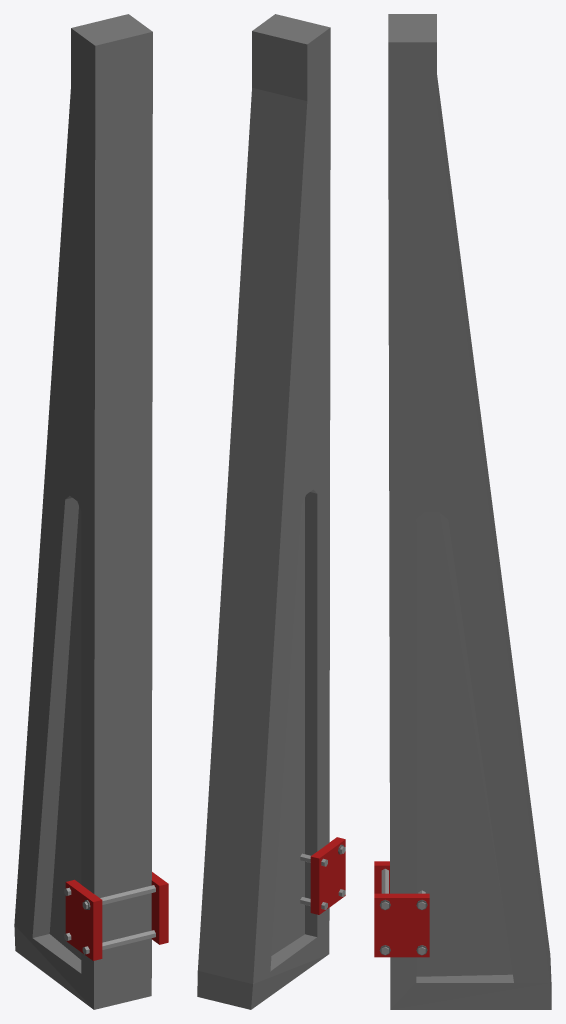
Rendered from outrigger_frame.obj.
3 renders of one model, left to right at view 1: azimuth 30°, elevation 25°; view 2: azimuth 150°, elevation 25°; view 3: azimuth 270°, elevation 25°, orthographic. The views are drawn at different scales.
Visible parts, largest first — view 1: (null); view 2: (null); view 3: (null).
Boxes of the visible parts, <box> form: (null): <box>14,14,168,1009</box>; (null): <box>197,14,345,1009</box>; (null): <box>374,14,551,1009</box>.
Size of the model in its own units: 0.2237 by 2.53 by 0.42.
